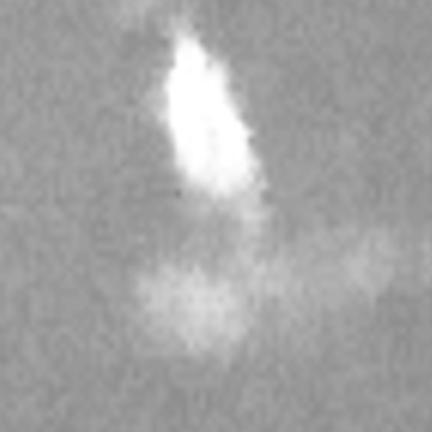flukeprints: (160, 25, 257, 198)
